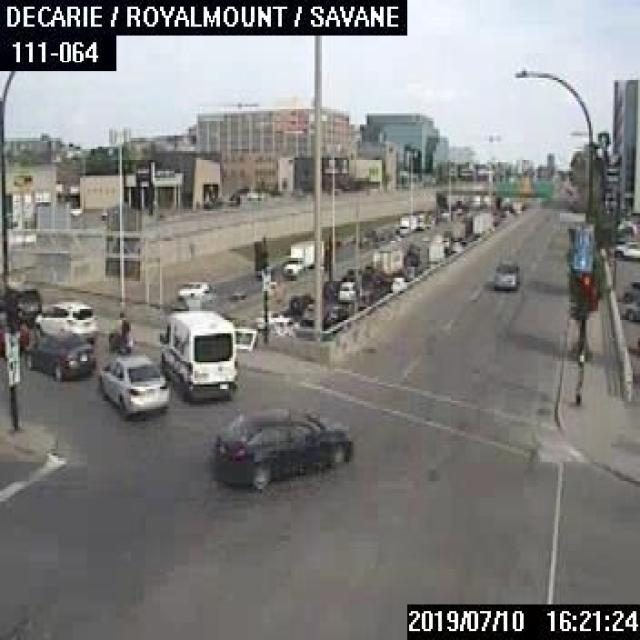cyclist: (105, 307, 133, 351)
vehicle: (211, 405, 349, 491), (157, 309, 237, 402), (96, 353, 170, 416), (22, 329, 94, 379), (32, 299, 98, 342), (280, 237, 324, 275), (0, 283, 38, 317), (491, 260, 520, 289), (372, 248, 405, 272), (174, 278, 208, 298), (418, 240, 444, 261), (613, 240, 638, 258), (620, 297, 638, 321), (336, 279, 356, 300), (621, 279, 638, 300)
